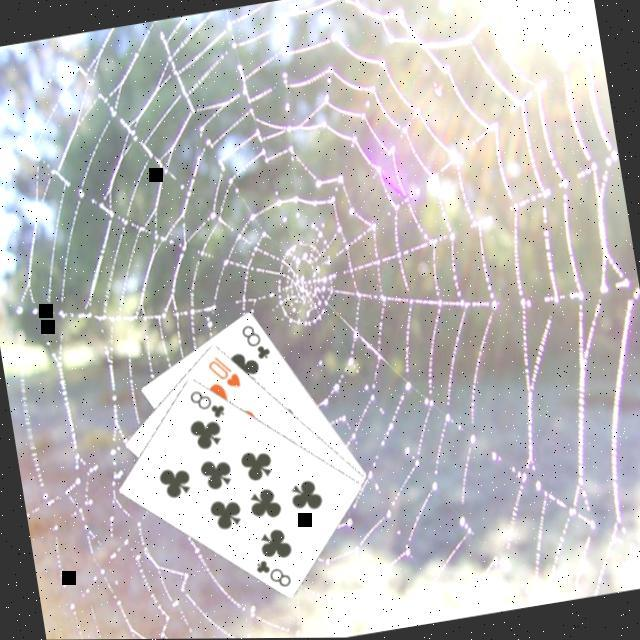10H: (204, 349, 247, 394)
8C: (187, 382, 231, 424), (253, 551, 297, 593), (239, 318, 276, 364)
